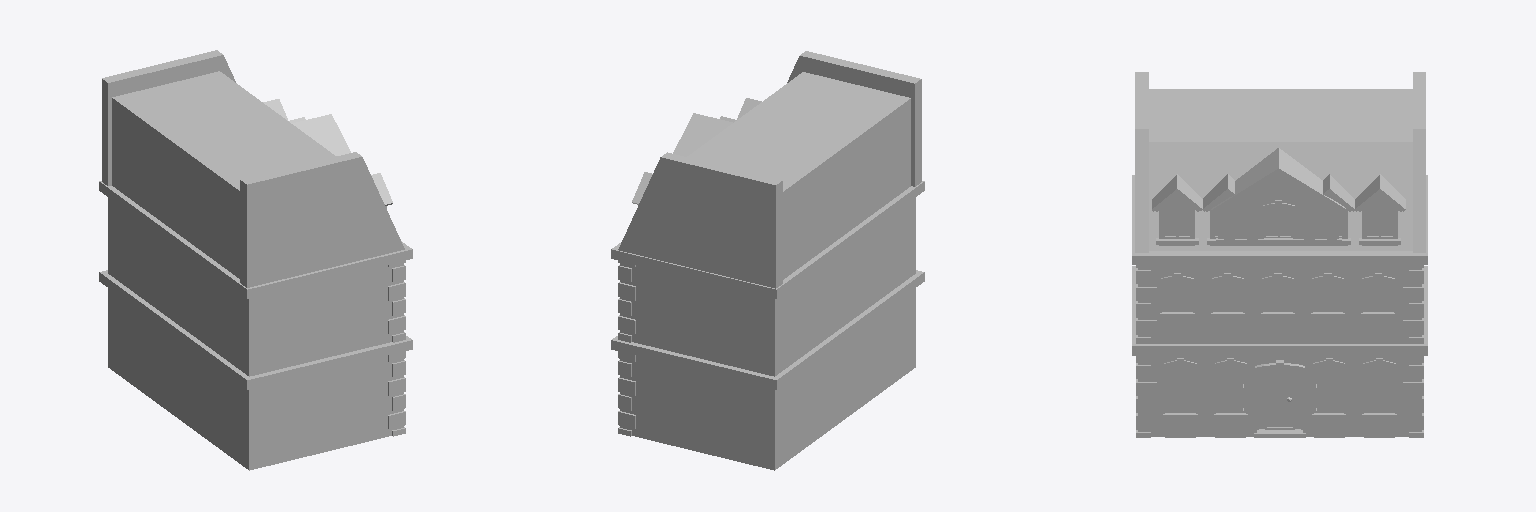
File: House5.obj
3 views of the same model, side by side, from view 1: azimuth 30°, elevation 25°; view 2: azimuth 150°, elevation 25°; view 3: azimuth 270°, elevation 25° (orthographic).
Visible parts, largest first — view 1: House5:Cube_379; view 2: House5:Cube_379; view 3: House5:Cube_379.
Boxes of the visible parts, x1,y1,x2,y2 form: House5:Cube_379: [99, 50, 412, 470]; House5:Cube_379: [611, 51, 924, 470]; House5:Cube_379: [1132, 72, 1427, 437].
Size of the model in its own units: 6.54 by 10.88 by 10.14.